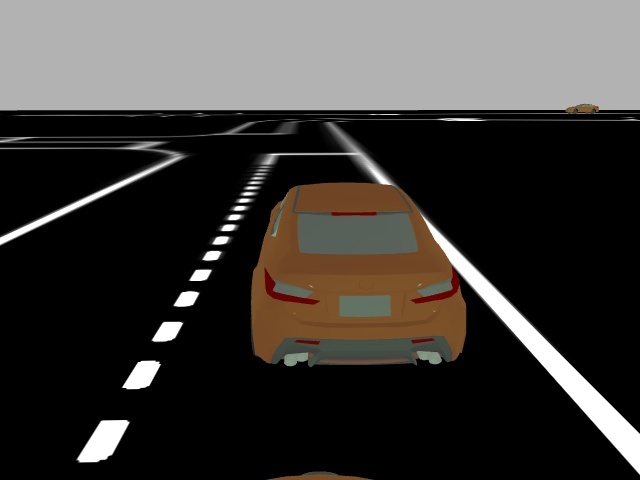obstacle_car: (247, 180, 470, 367)
